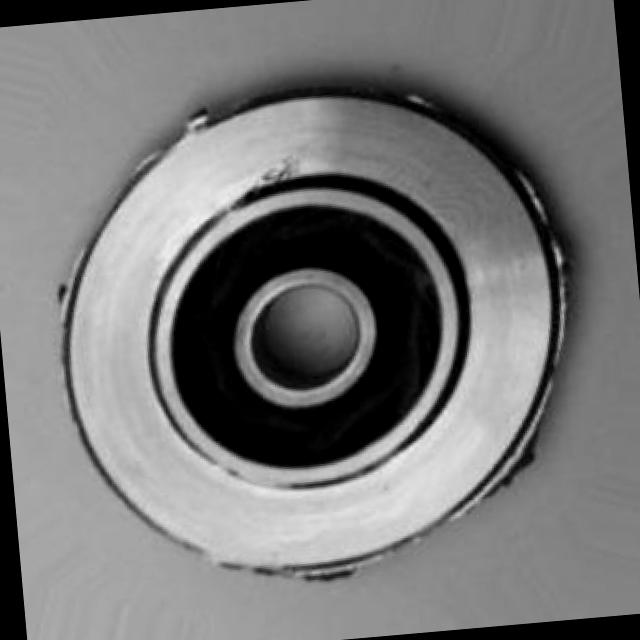Defect: (243, 150, 308, 194)
